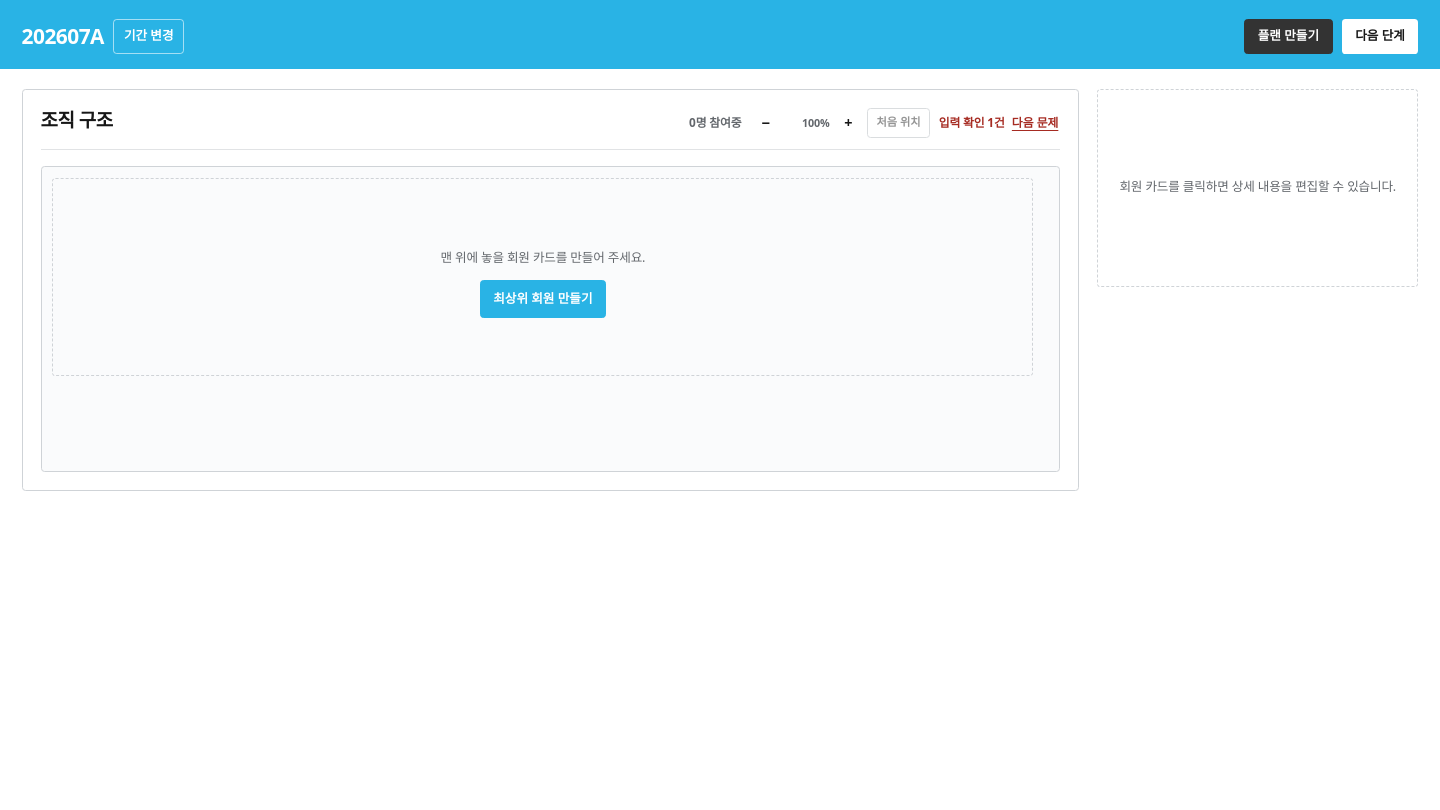
Test: WP3 App setup handoff › opens the exact session directly and returns to the setup title without a dialog
Click the button "최상위 회원 만들기" at (543, 299), box [480,280,606,318]
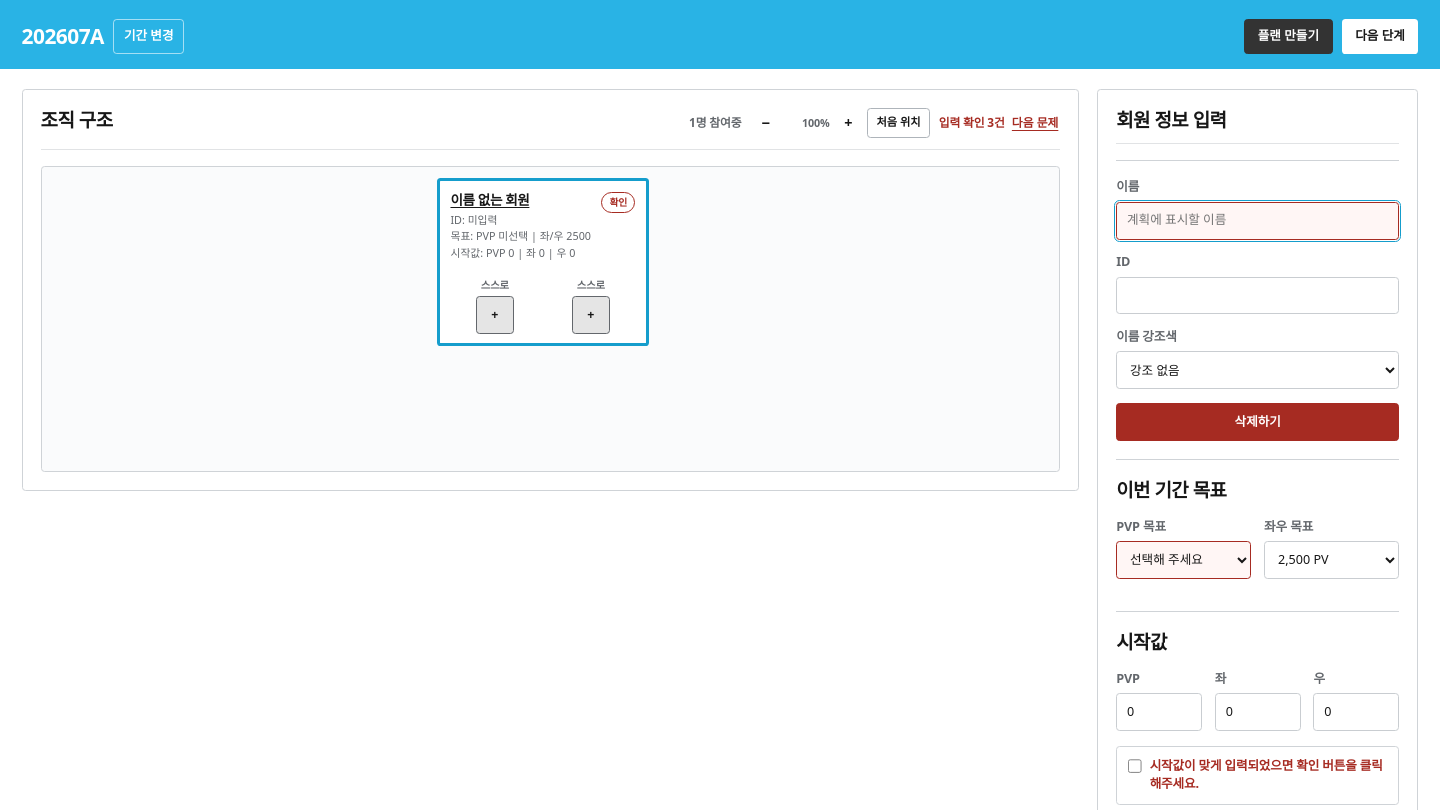
Type "루트 회원" into the field with id "member-member-1-name" at (1258, 221), box [1116,202,1399,240]
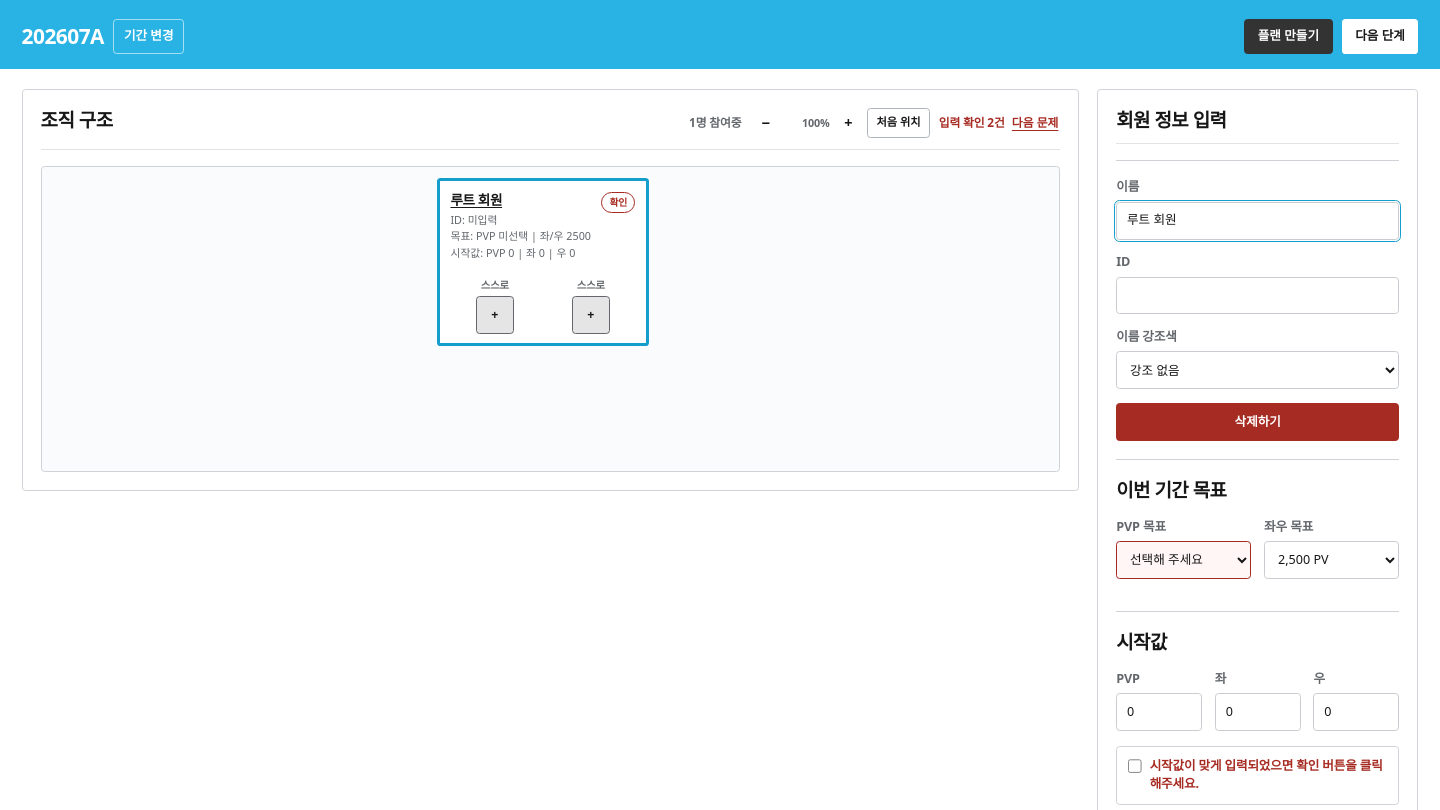
Select "700 PV" in the dropdown with id "member-member-1-pvpTarget" at (1184, 560), box [1116,541,1251,579]
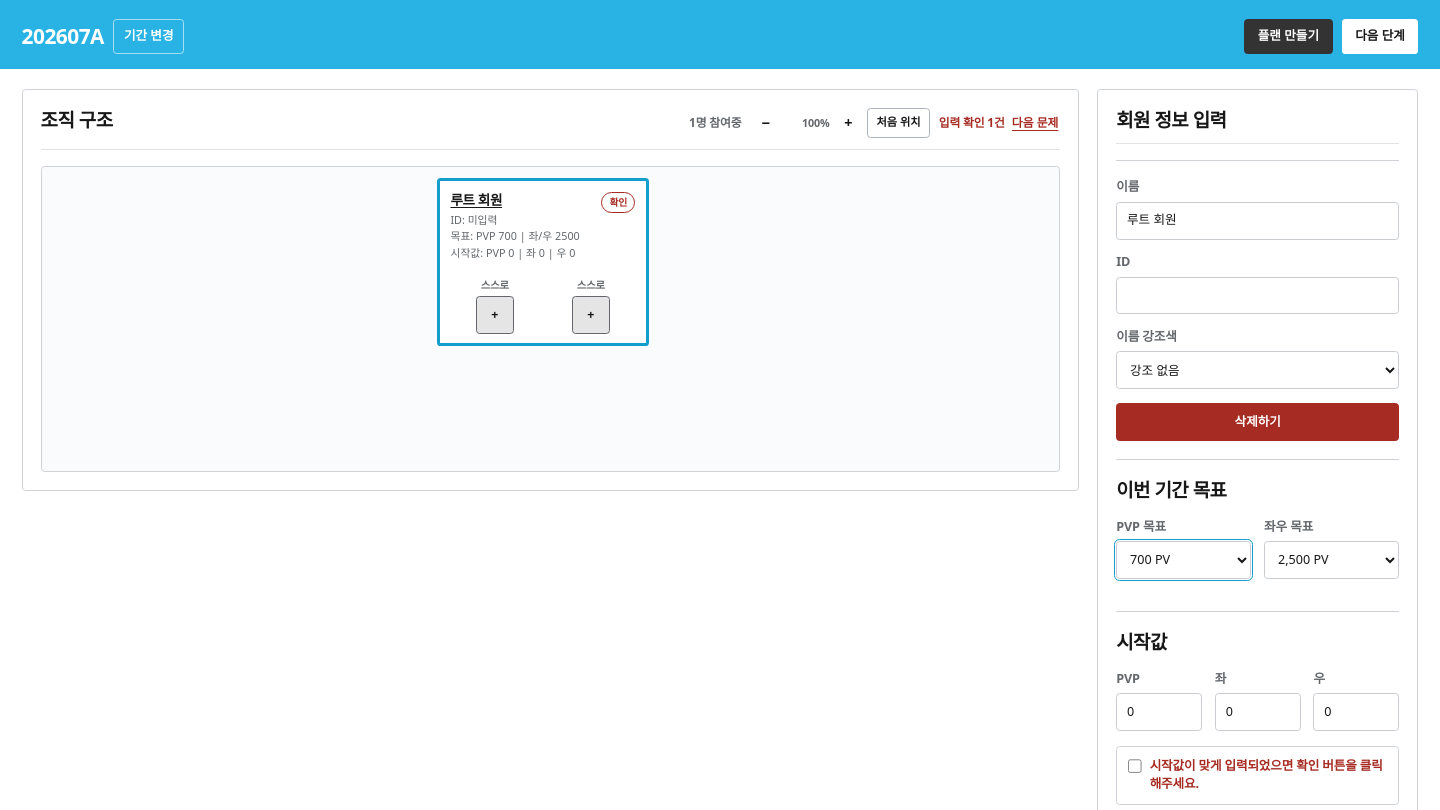
Click the checkbox with id "member-member-1-openingStateConfirmed" at (1135, 766), box [1128,758,1142,774]
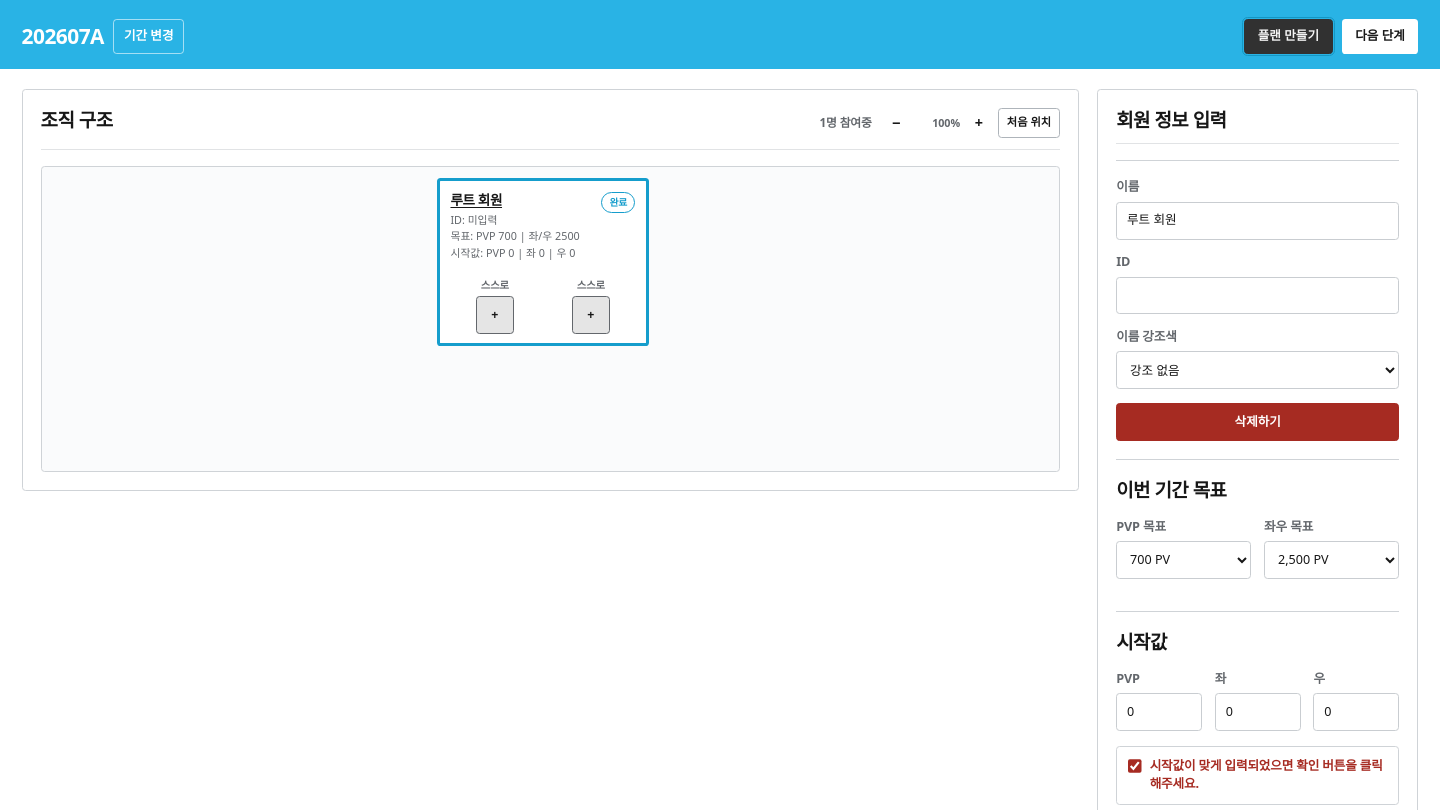
Press Enter
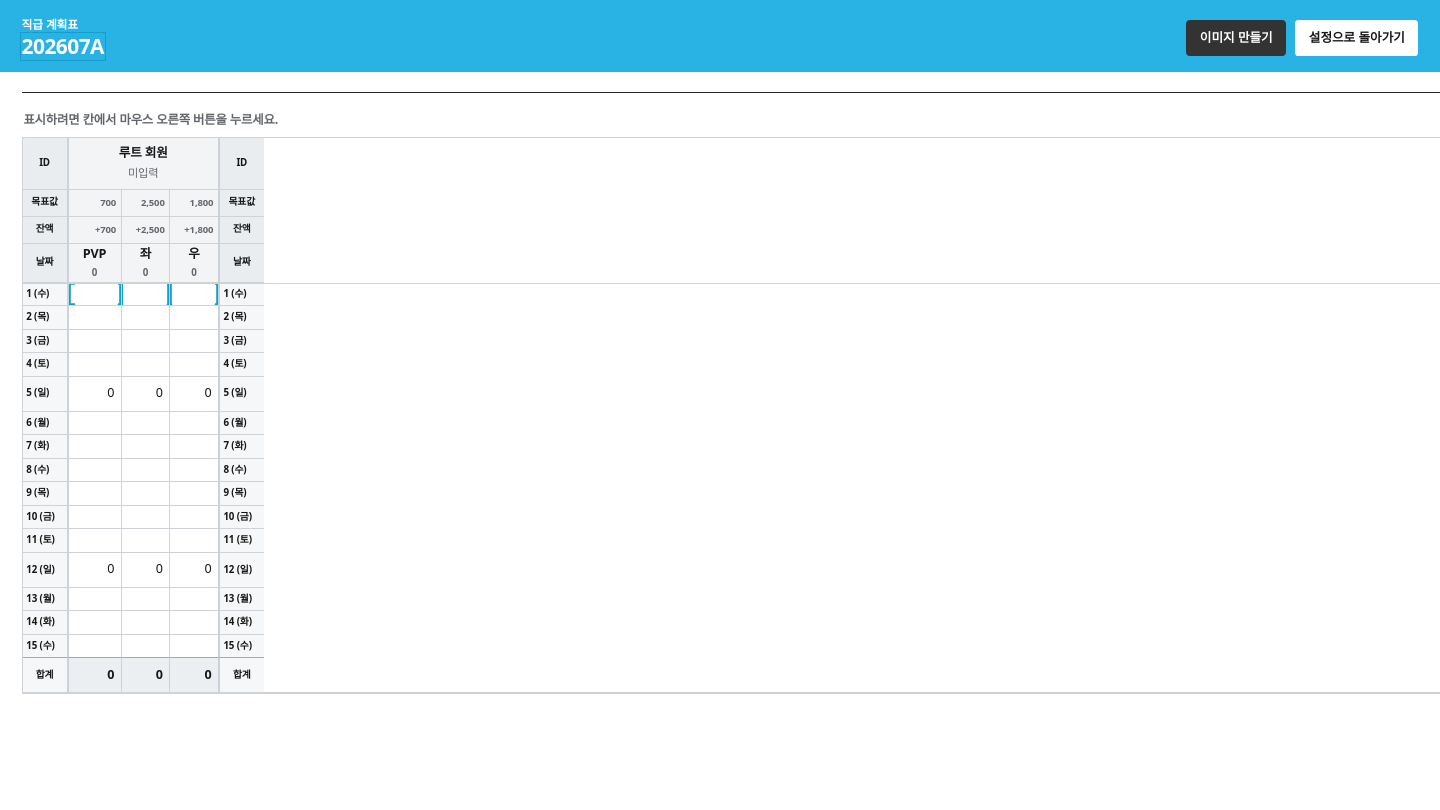
Expected: the heading "직급 계획표" is shown, [22,17,78,32]
Click the button "설정으로 돌아가기" at (1357, 38), box [1295,20,1418,56]
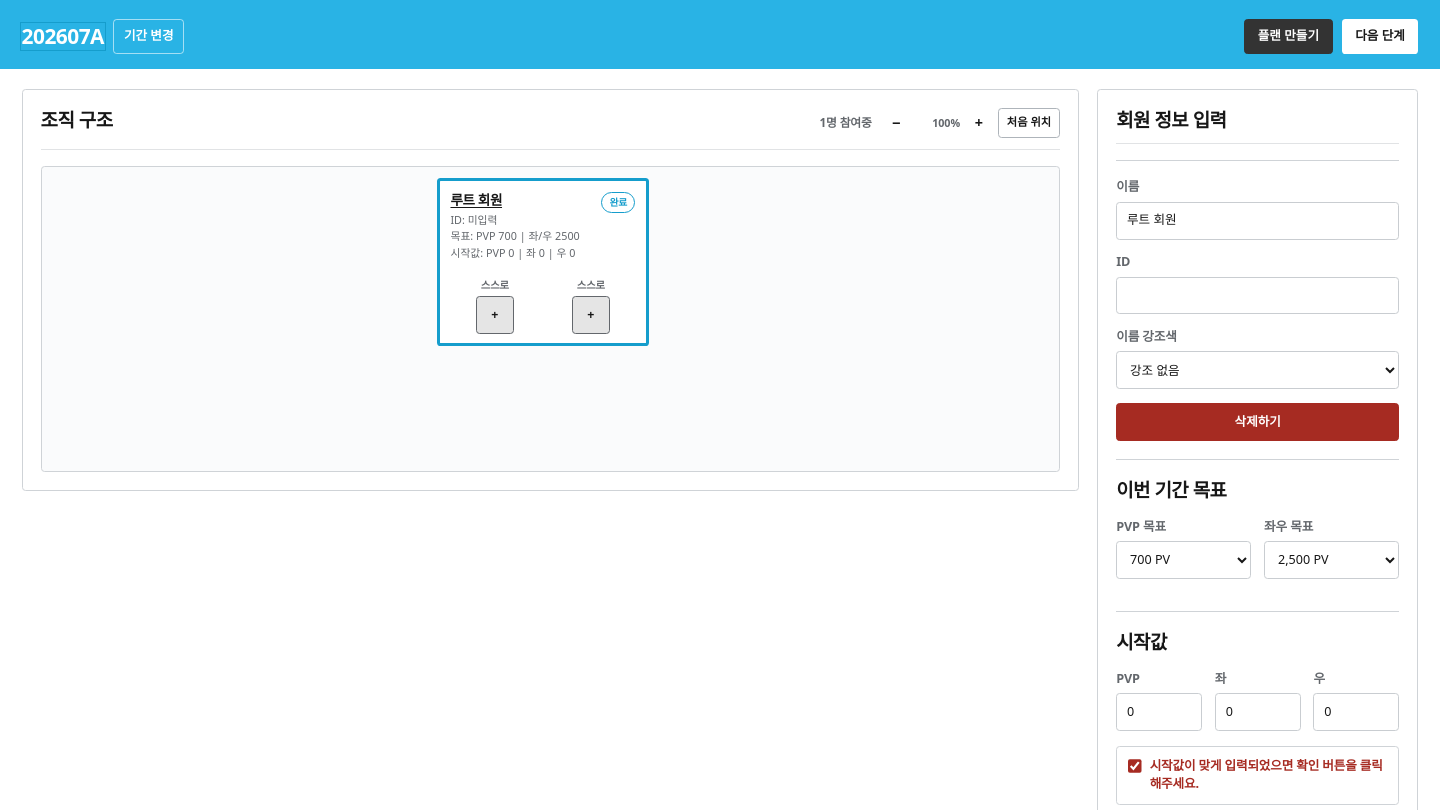
Expected: the button "플랜 만들기" is shown, [1244,19,1333,54]
